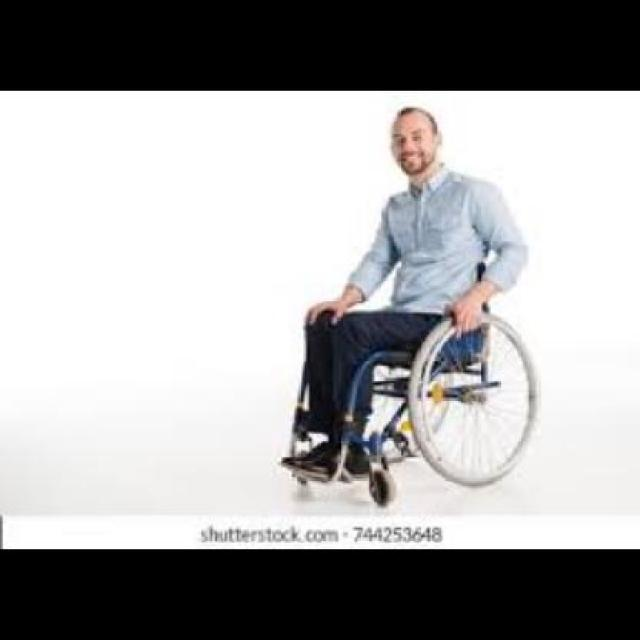wheelchairs: (276, 252, 547, 510)
